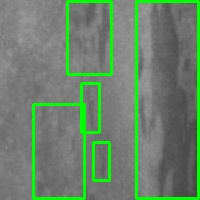inclusion: (136, 1, 198, 198), (33, 104, 84, 198), (67, 1, 111, 74), (81, 83, 99, 132), (93, 142, 109, 180)
